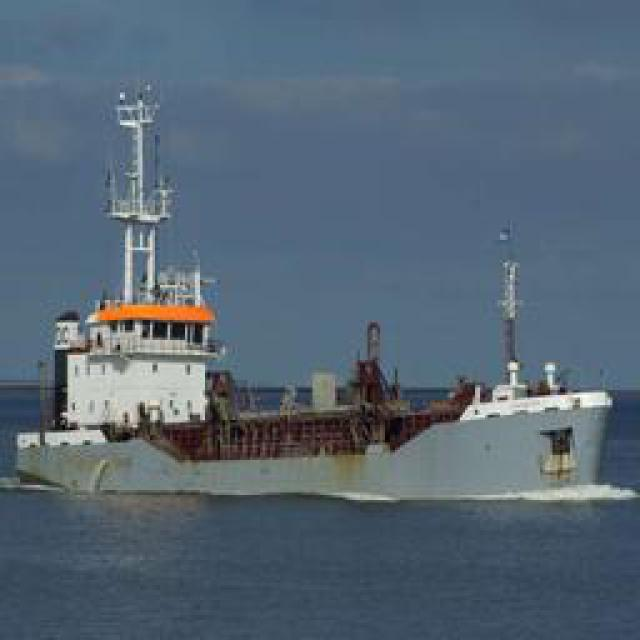Ship: (10, 75, 615, 499)
